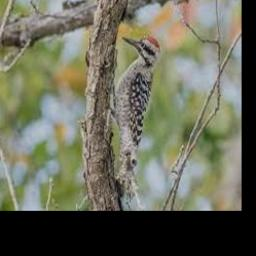Woodpecker: (111, 36, 160, 211)
